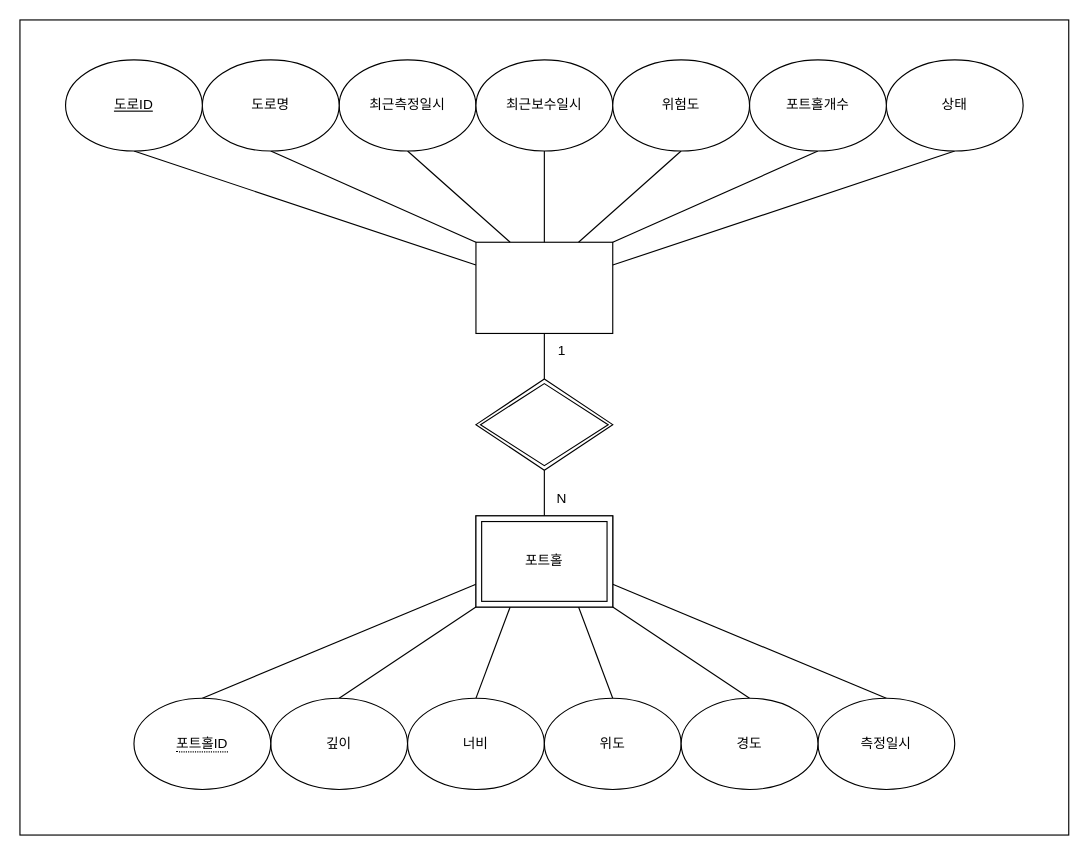
The diagram is 1089 pixels wide and 855 high, and some of its shapes have lost their labels. The shapes that lost their labels are listed below. From the top down, each one's centre as x and y in pixels, then its label:
the point at 544,287: 도로
the point at 544,424: 포함한다
